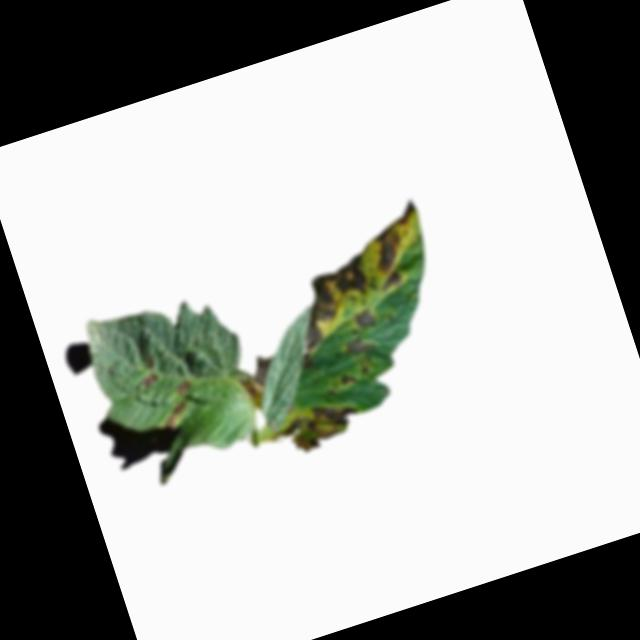Early_blight: (267, 196, 450, 361), (280, 392, 366, 456), (233, 348, 283, 400), (158, 399, 190, 429), (345, 332, 375, 360), (350, 307, 379, 333), (337, 365, 362, 389), (171, 376, 195, 397), (137, 368, 159, 388)
